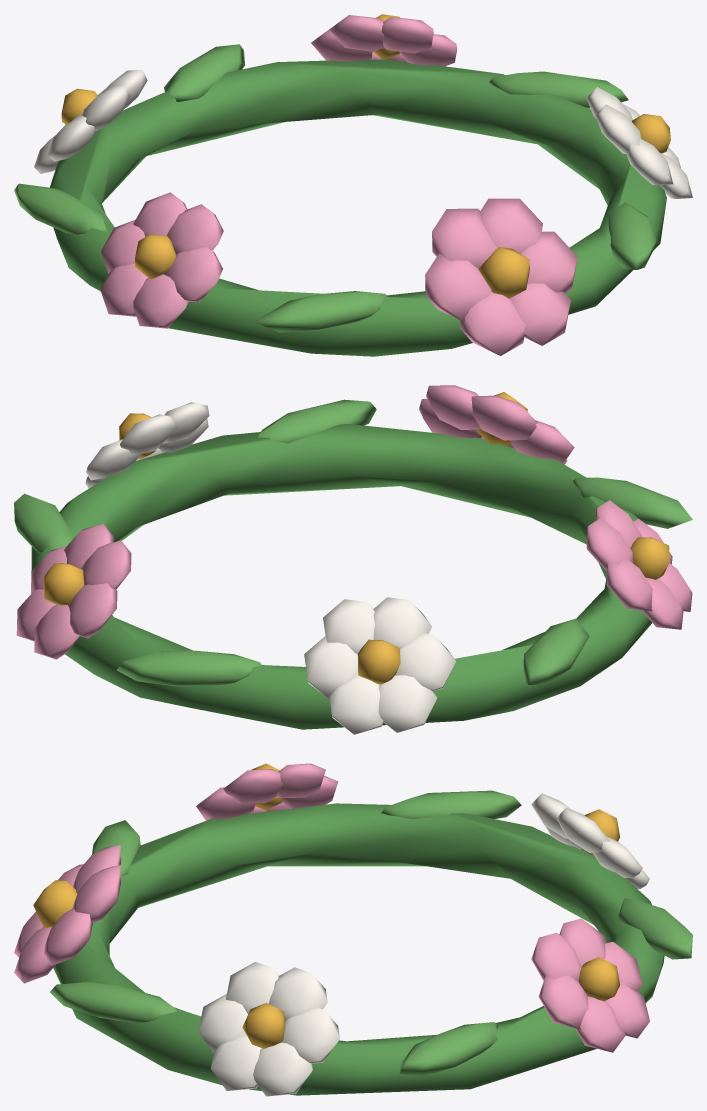
File: flowercrown.glb
The picture shows the model from 3 angles, top to bottom: view 1: azimuth 30°, elevation 25°; view 2: azimuth 150°, elevation 25°; view 3: azimuth 270°, elevation 25°; orthographic projection. The views are drawn at different scales.
Parts seen in each view (by area): view 1: flowercrown_Vine, flowercrown, flowercrown_Leaf4, flowercrown_Leaf3, flowercrown_Leaf1, flowercrown_Leaf2, flowercrown_Leaf0, flowercrown_Center0, flowercrown_Center4, flowercrown_Center1, flowercrown_Center3; view 2: flowercrown_Vine, flowercrown, flowercrown_Leaf2, flowercrown_Leaf4, flowercrown_Leaf3, flowercrown_Leaf0, flowercrown_Leaf1, flowercrown_Center3, flowercrown_Center2, flowercrown_Center4; view 3: flowercrown_Vine, flowercrown, flowercrown_Leaf0, flowercrown_Leaf1, flowercrown_Leaf3, flowercrown_Leaf2, flowercrown_Center1, flowercrown_Center2, flowercrown_Center0, flowercrown_Leaf4, flowercrown_Center3.
Part boxes in pixels (x1,y1,x2,y2): flowercrown_Vine: [50, 59, 666, 356]; flowercrown: [34, 15, 692, 355]; flowercrown_Leaf4: [254, 291, 387, 332]; flowercrown_Leaf3: [14, 183, 107, 234]; flowercrown_Leaf1: [488, 71, 628, 108]; flowercrown_Leaf2: [164, 44, 244, 101]; flowercrown_Leaf0: [608, 202, 656, 269]; flowercrown_Center0: [478, 247, 529, 298]; flowercrown_Center4: [135, 234, 175, 278]; flowercrown_Center1: [632, 114, 670, 153]; flowercrown_Center3: [61, 88, 97, 124]; flowercrown_Vine: [31, 424, 651, 729]; flowercrown: [16, 385, 692, 734]; flowercrown_Leaf2: [116, 650, 262, 686]; flowercrown_Leaf4: [572, 477, 692, 528]; flowercrown_Leaf3: [523, 618, 589, 684]; flowercrown_Leaf0: [257, 399, 376, 443]; flowercrown_Leaf1: [14, 493, 73, 552]; flowercrown_Center3: [357, 639, 400, 684]; flowercrown_Center2: [43, 563, 83, 605]; flowercrown_Center4: [630, 537, 669, 579]; flowercrown_Vine: [53, 803, 664, 1095]; flowercrown: [14, 763, 649, 1096]; flowercrown_Leaf0: [50, 982, 176, 1022]; flowercrown_Leaf1: [399, 1022, 497, 1076]; flowercrown_Leaf3: [381, 790, 521, 819]; flowercrown_Leaf2: [617, 898, 692, 959]; flowercrown_Center1: [242, 1002, 285, 1048]; flowercrown_Center2: [579, 957, 619, 1001]; flowercrown_Center0: [33, 880, 77, 927]; flowercrown_Leaf4: [92, 820, 140, 875]; flowercrown_Center3: [584, 809, 619, 853].
Size of the model in its own units: 0.4166 by 0.0811 by 0.4247.
